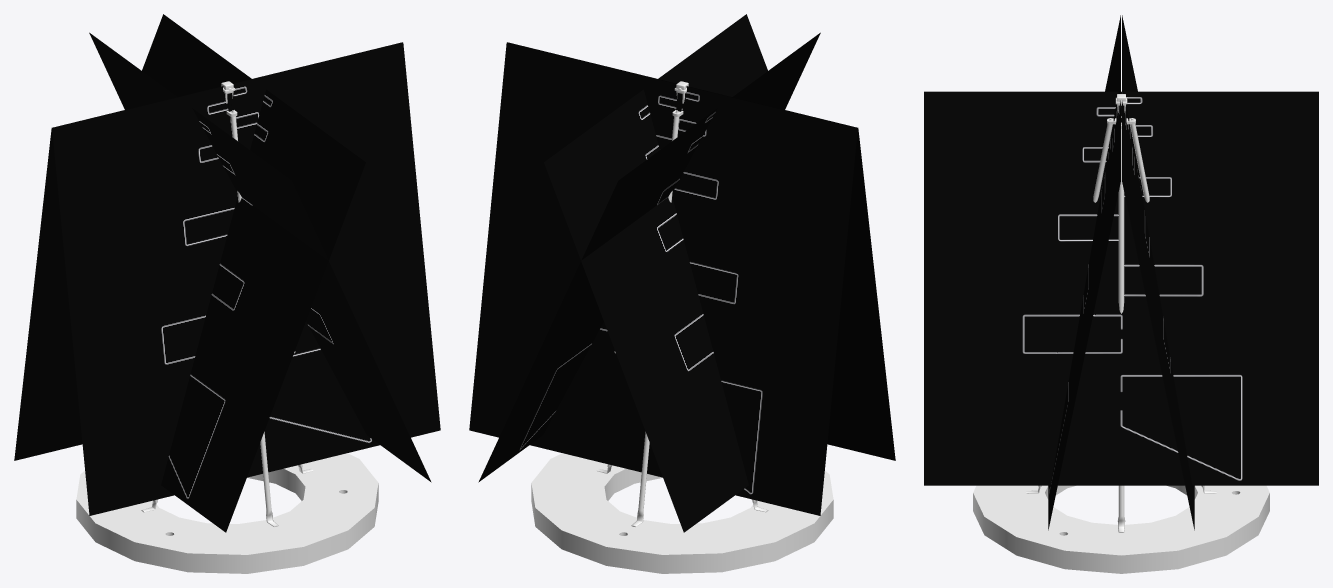
The model's file is SKA_Antenna_LowPolyHybrid.fbx.
The picture shows the model from 3 angles, left to right: view 1: azimuth 30°, elevation 25°; view 2: azimuth 150°, elevation 25°; view 3: azimuth 270°, elevation 25°; orthographic projection. The views are drawn at different scales.
Parts seen in each view (by area): view 1: WIRINGPLANE_A_V001, WIRINGPLANE_A_V002, SKA_ANTENNA_Concrete, WIRINGPLANE_A_V004, WIRINGPLANE_A_V003, SKA_ANTENNA_Tree; view 2: WIRINGPLANE_A_V003, WIRINGPLANE_A_V002, SKA_ANTENNA_Concrete, WIRINGPLANE_A_V004, WIRINGPLANE_A_V001, SKA_ANTENNA_Tree; view 3: WIRINGPLANE_A_V004, SKA_ANTENNA_Concrete, WIRINGPLANE_A_V003, WIRINGPLANE_A_V001, SKA_ANTENNA_Tree.
Boxes of the visible parts, bbox=[...] form: WIRINGPLANE_A_V001: bbox=[52, 42, 440, 515]; WIRINGPLANE_A_V002: bbox=[142, 14, 365, 532]; SKA_ANTENNA_Concrete: bbox=[76, 453, 378, 573]; WIRINGPLANE_A_V004: bbox=[89, 32, 431, 482]; WIRINGPLANE_A_V003: bbox=[14, 42, 402, 460]; SKA_ANTENNA_Tree: bbox=[141, 81, 313, 526]; WIRINGPLANE_A_V003: bbox=[469, 42, 857, 515]; WIRINGPLANE_A_V002: bbox=[544, 14, 767, 532]; SKA_ANTENNA_Concrete: bbox=[531, 453, 833, 573]; WIRINGPLANE_A_V004: bbox=[478, 32, 820, 482]; WIRINGPLANE_A_V001: bbox=[507, 42, 895, 460]; SKA_ANTENNA_Tree: bbox=[596, 81, 768, 526]; WIRINGPLANE_A_V004: bbox=[924, 91, 1318, 485]; SKA_ANTENNA_Concrete: bbox=[973, 485, 1269, 573]; WIRINGPLANE_A_V003: bbox=[1122, 15, 1194, 530]; WIRINGPLANE_A_V001: bbox=[1048, 15, 1120, 530]; SKA_ANTENNA_Tree: bbox=[1026, 94, 1216, 532].
Bounding box in the file's own units: 166 × 193 × 166.
Materials: 2 (1 with a texture image).
